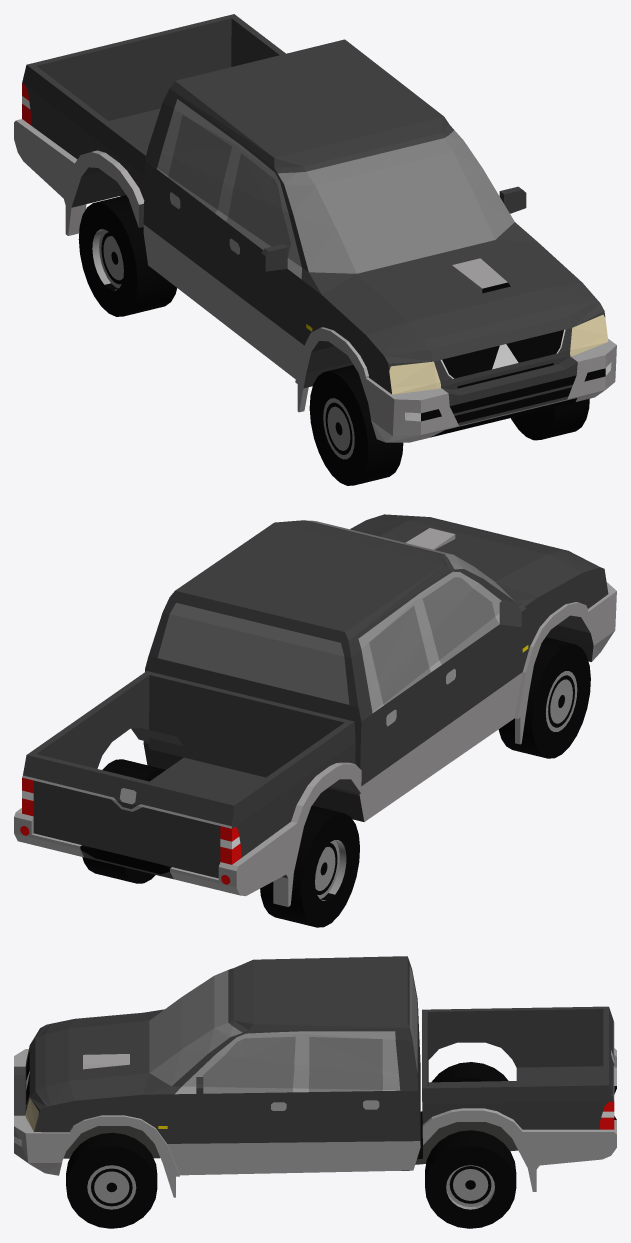
The model's file is car_pickup.glb.
The picture shows the model from 3 angles, top to bottom: view 1: azimuth 30°, elevation 25°; view 2: azimuth 150°, elevation 25°; view 3: azimuth 270°, elevation 25°; orthographic projection. The views are drawn at different scales.
Visible parts, largest first — view 1: Mesh1 Model, Mesh5 Model, Mesh3 Model, Mesh6 Model, Mesh4 Model; view 2: Mesh1 Model, Mesh5 Model, Mesh3 Model, Mesh7 Model, Mesh4 Model; view 3: Mesh1 Model, Mesh7 Model, Mesh6 Model, Mesh5 Model.
Boxes of the visible parts, x1=… form: Mesh1 Model: x1=14, y1=14, x2=616, y2=442; Mesh5 Model: x1=78, y1=195, x2=176, y2=316; Mesh3 Model: x1=309, y1=365, x2=403, y2=485; Mesh6 Model: x1=511, y1=398, x2=589, y2=440; Mesh4 Model: x1=261, y1=244, x2=287, y2=271; Mesh1 Model: x1=14, y1=514, x2=616, y2=906; Mesh5 Model: x1=260, y1=805, x2=359, y2=927; Mesh3 Model: x1=498, y1=637, x2=590, y2=758; Mesh7 Model: x1=82, y1=759, x2=165, y2=883; Mesh4 Model: x1=499, y1=599, x2=526, y2=627; Mesh1 Model: x1=14, y1=956, x2=616, y2=1197; Mesh7 Model: x1=425, y1=1130, x2=516, y2=1228; Mesh6 Model: x1=66, y1=1132, x2=157, y2=1228; Mesh5 Model: x1=431, y1=1062, x2=508, y2=1082.
Size of the model in its own units: 2.05 by 1.93 by 5.3.
